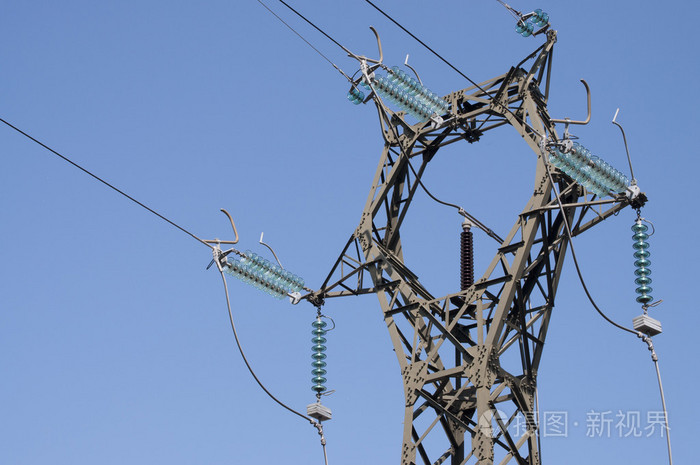insulator: (547, 143, 629, 197), (367, 69, 449, 119), (224, 252, 303, 298), (631, 224, 654, 304), (310, 321, 330, 391), (518, 10, 549, 37)
